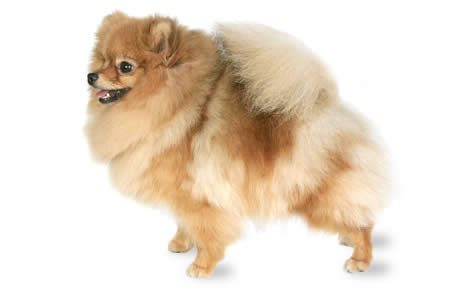pomeranian: (84, 3, 393, 275)
